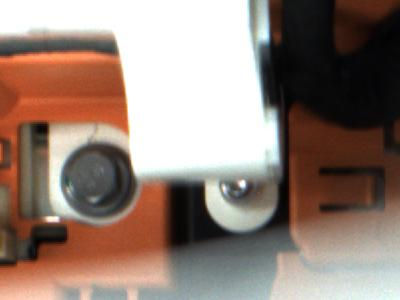nut_b: (55, 142, 138, 219)
